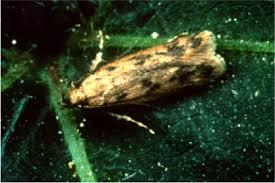Insects: (57, 24, 230, 138)
